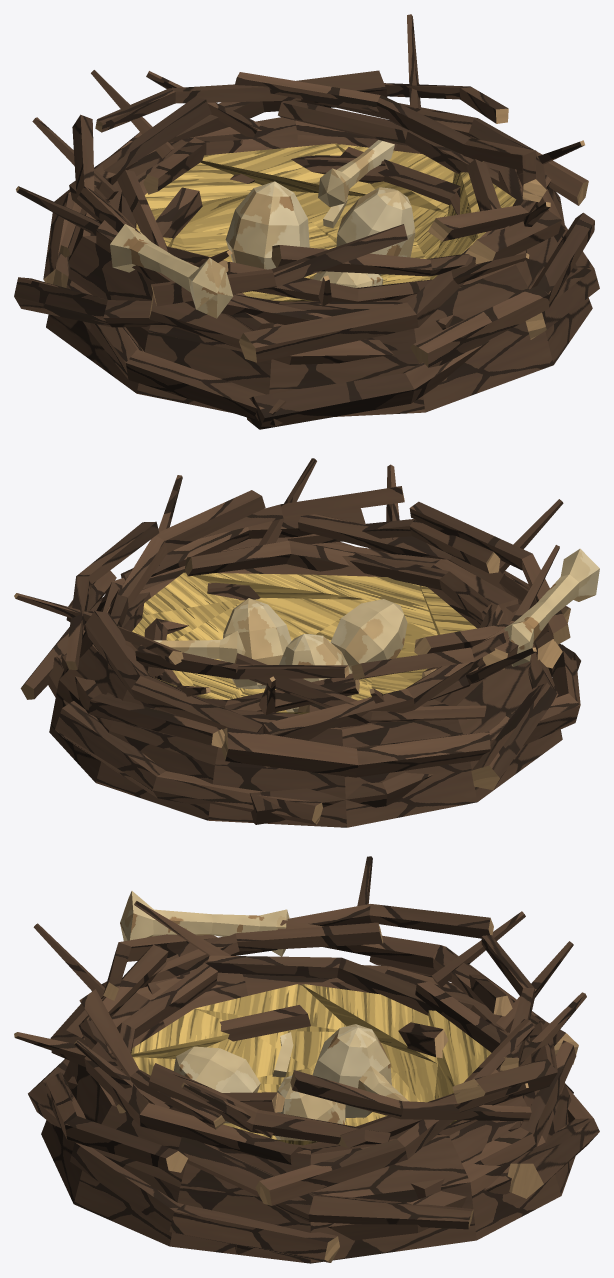
The model's file is SM_MonsterNest.fbx.
The picture shows the model from 3 angles, top to bottom: view 1: azimuth 30°, elevation 25°; view 2: azimuth 150°, elevation 25°; view 3: azimuth 270°, elevation 25°; orthographic projection. The views are drawn at different scales.
Parts seen in each view (by area): view 1: SM_MonsterNest; view 2: SM_MonsterNest; view 3: SM_MonsterNest.
Part boxes in pixels (left/top/right/bottom): SM_MonsterNest: left=14, top=14, right=599, bottom=429; SM_MonsterNest: left=14, top=458, right=599, bottom=827; SM_MonsterNest: left=14, top=856, right=599, bottom=1263.
Size of the model in its own units: 1.75 by 0.5275 by 1.71.
